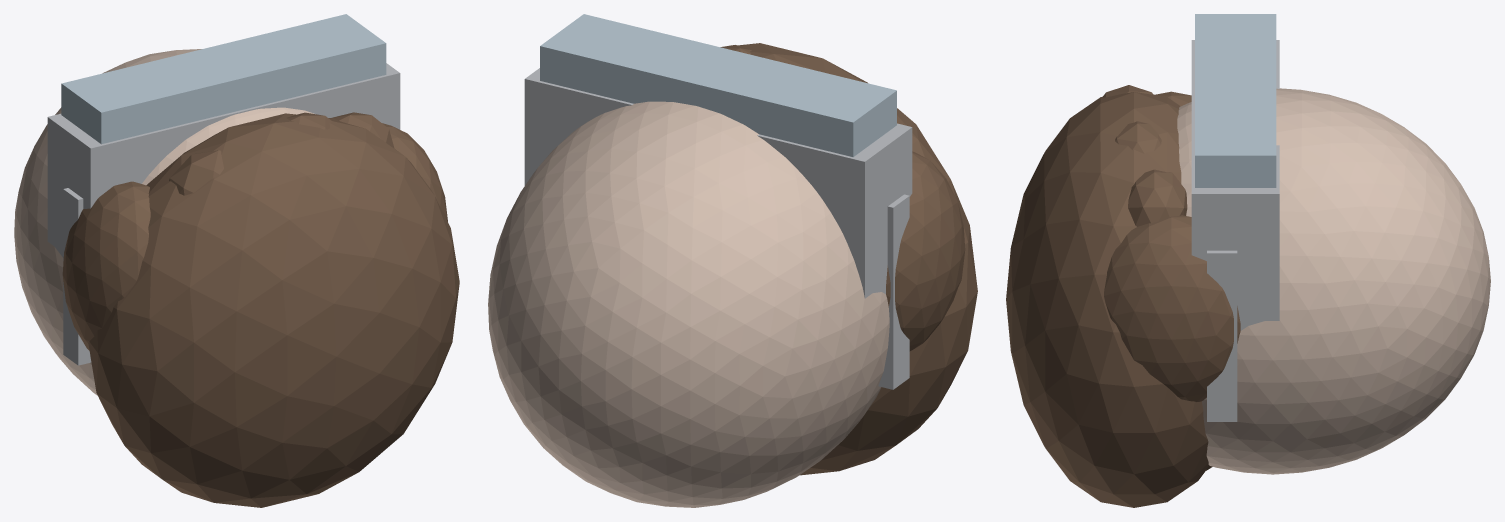
File: primm_head.glb
3 views of the same model, side by side, from view 1: azimuth 30°, elevation 25°; view 2: azimuth 150°, elevation 25°; view 3: azimuth 270°, elevation 25° (orthographic). The views are drawn at different scales.
Visible parts, largest first — view 1: geometry_0; view 2: geometry_0; view 3: geometry_0.
Part boxes in pixels (x1,y1,x2,y2): geometry_0: (14, 14, 459, 507); geometry_0: (488, 14, 977, 507); geometry_0: (1006, 14, 1490, 507).
Bounding box in the file's own units: 0.2492 × 0.2644 × 0.2864.
